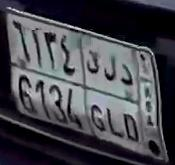1: (28, 25, 51, 122)
3: (43, 28, 68, 127)
4: (58, 31, 84, 131)
6: (10, 18, 34, 118)
D: (117, 60, 140, 144)
G: (84, 45, 107, 137)
L: (102, 52, 124, 140)
